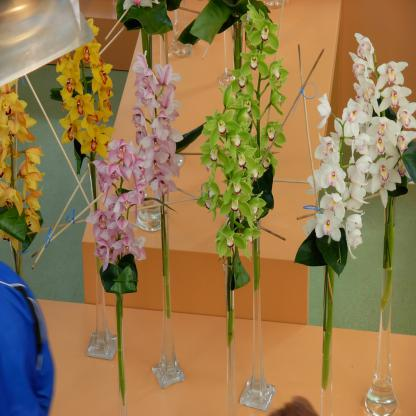vase: (240, 220, 276, 414), (86, 162, 119, 362), (364, 222, 398, 416), (152, 190, 184, 390), (134, 106, 166, 231), (318, 264, 334, 416), (223, 258, 237, 416), (219, 23, 246, 88), (115, 292, 128, 416), (169, 0, 194, 58), (10, 235, 22, 280)
